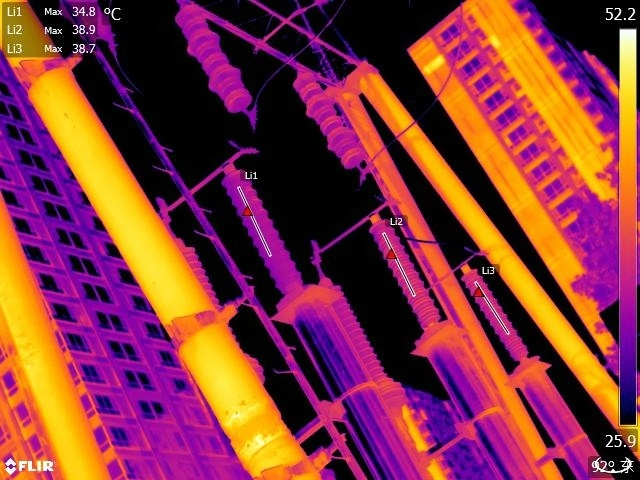insulator: (174, 1, 256, 112), (293, 68, 368, 166)
post insulator: (225, 167, 304, 292), (370, 214, 442, 326), (463, 272, 530, 361)
tube: (321, 276, 392, 399)
